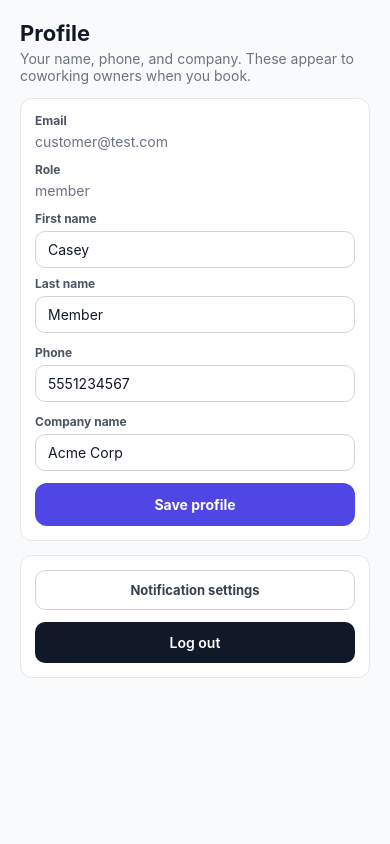
Scenario: ProfileScreen › rejects phone numbers shorter than 7 digits like web
Step 1. Type "555" into the field named "Phone" → (195, 384), box [35,365,355,402]
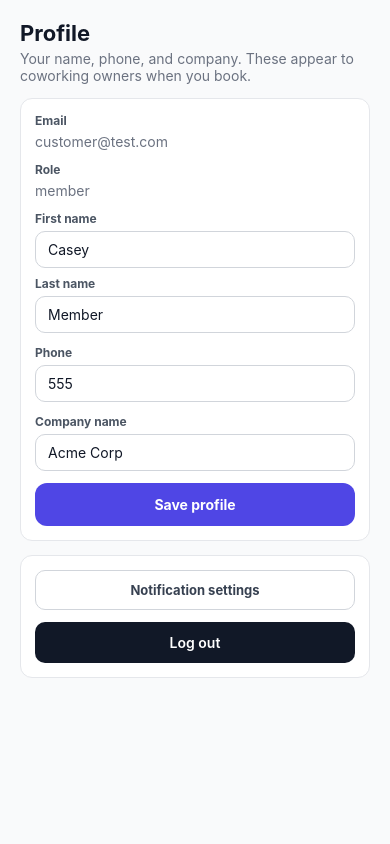
Step 2. Click the button labelled "Save profile" → (195, 504), box [35,483,355,526]
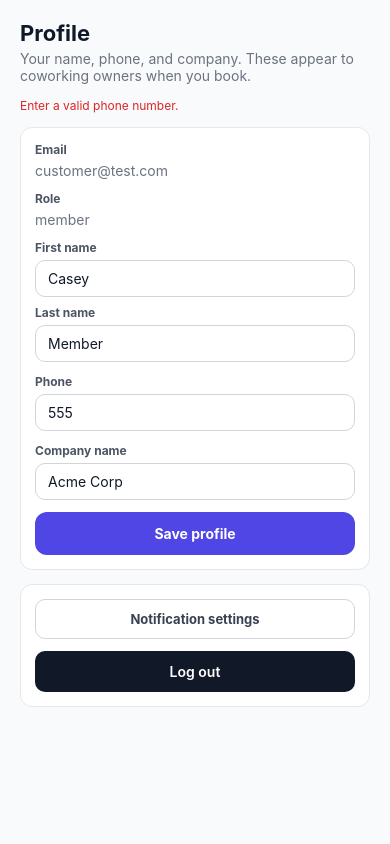
Expected: the text "Enter a valid phone number." is shown, [20,98,178,113]
